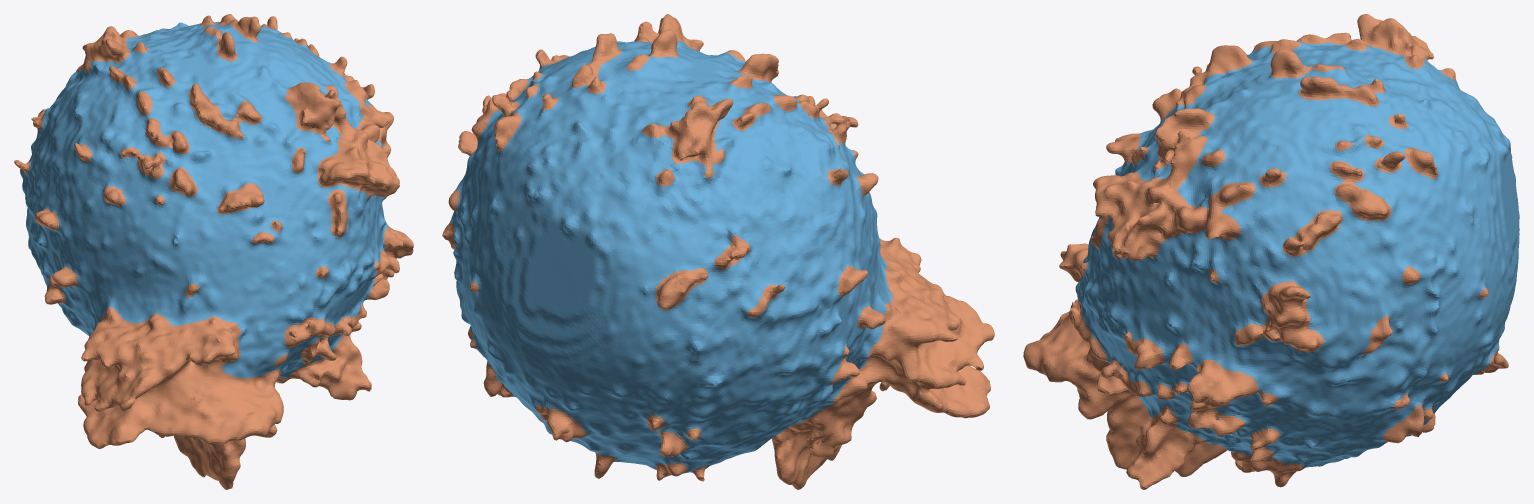
3 renders of one model, left to right at view 1: azimuth 30°, elevation 25°; view 2: azimuth 150°, elevation 25°; view 3: azimuth 270°, elevation 25°, orthographic. The views are drawn at different scales.
Size of the model in its own units: 153 by 157 by 151.
